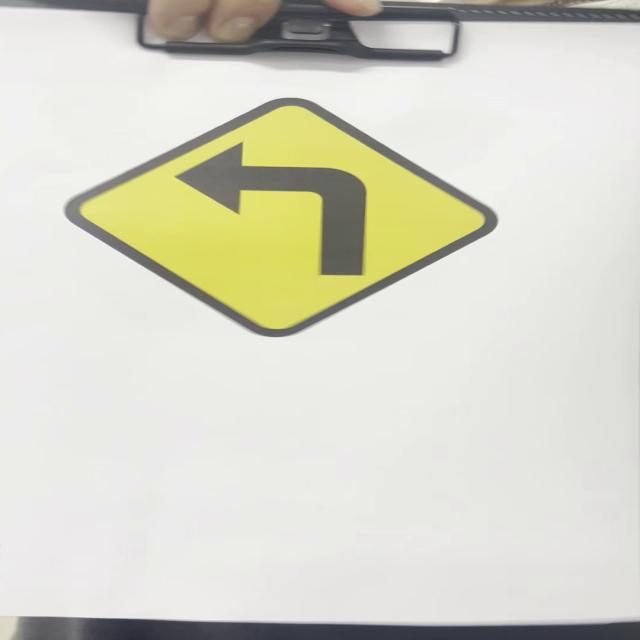left: (65, 94, 499, 339)
